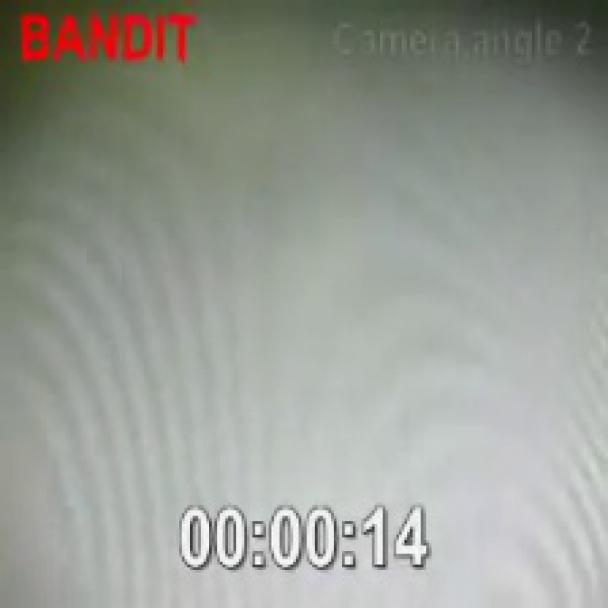smoke: (13, 86, 602, 494)
